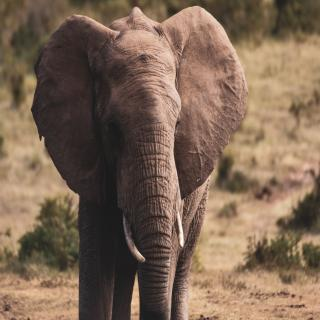Elephant: (29, 4, 249, 320)
